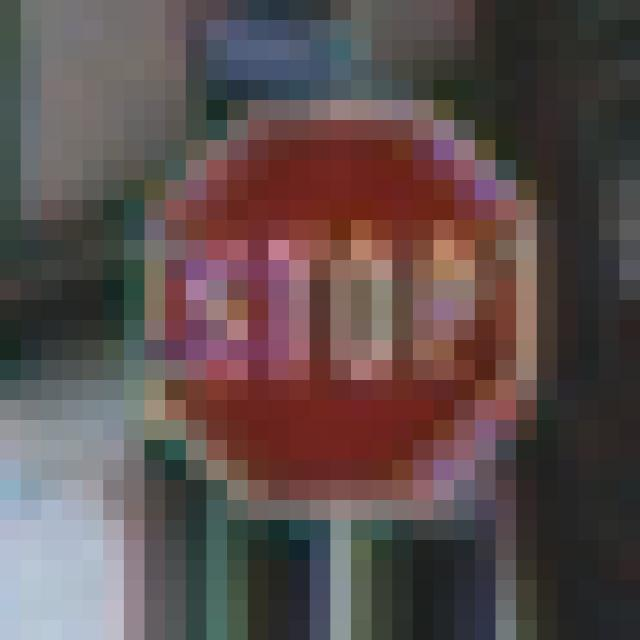STOP: (104, 101, 517, 541)
